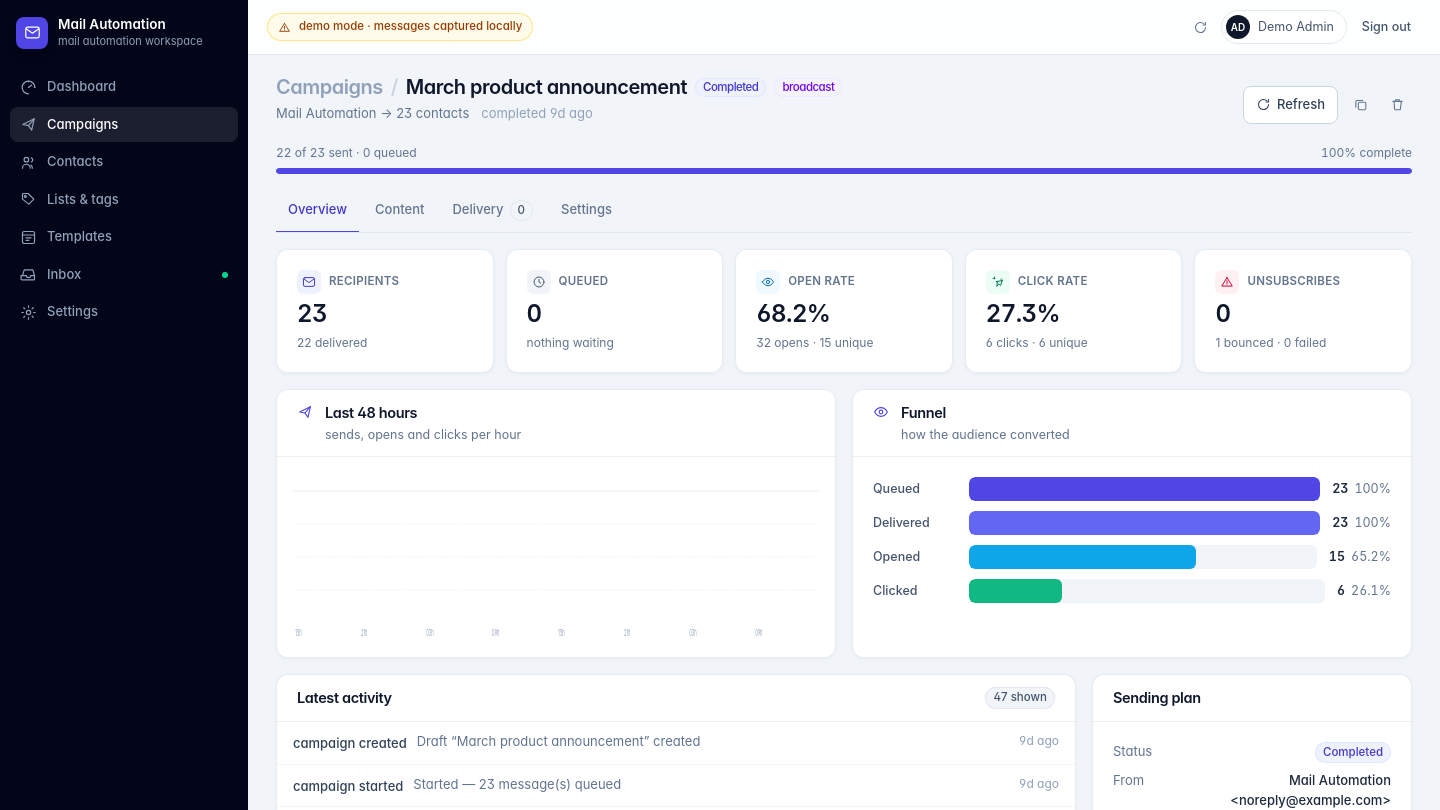
Test: client app in demo mode (VITE_DEMO=1) › renders campaign detail with stats and delivery logs
Click the button "Delivery 0".
click(493, 211)  # box [440, 190, 545, 233]
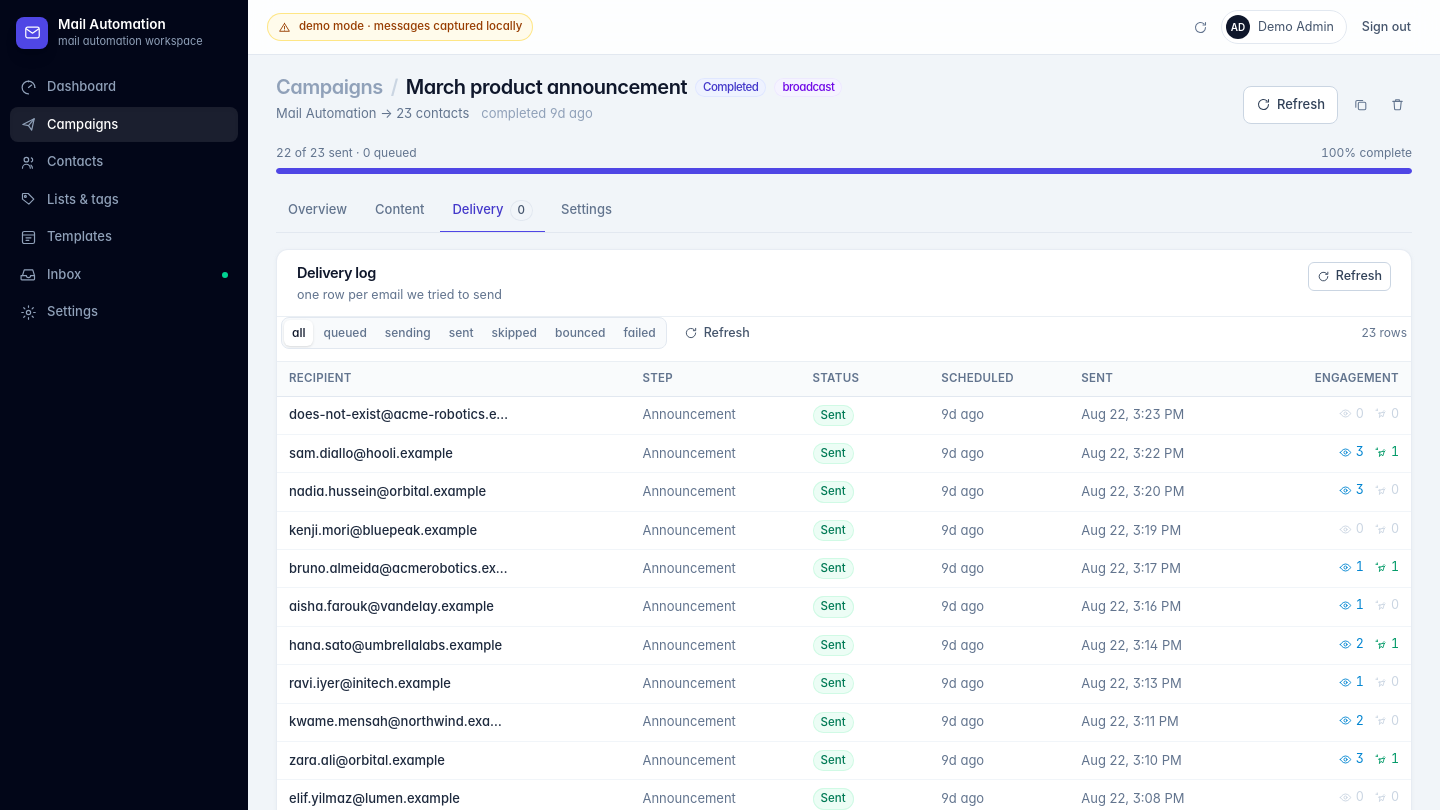
Expected: the text "Delivery log" is shown, [297, 264, 376, 281]
